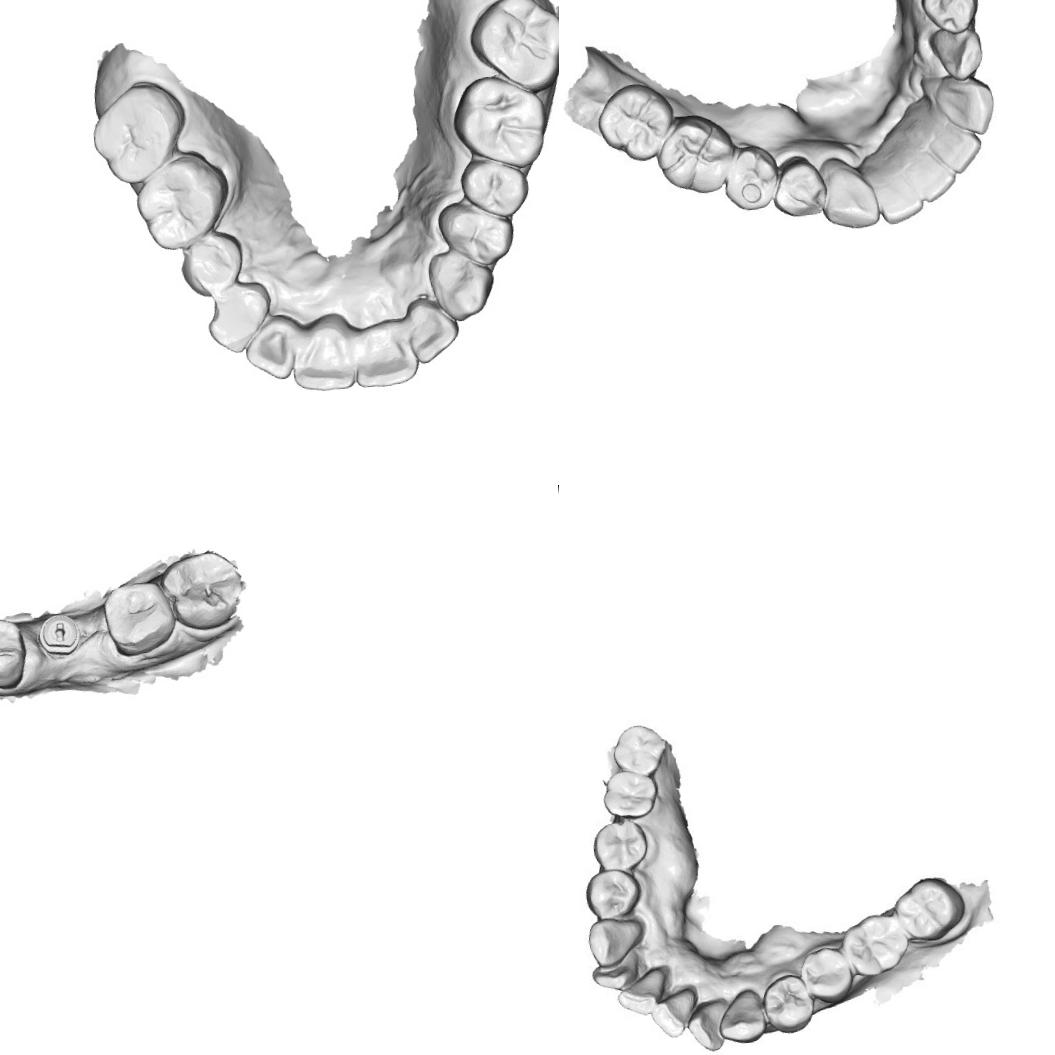canine: (424, 245, 499, 327), (200, 276, 274, 358), (819, 153, 883, 235), (926, 22, 986, 80), (720, 988, 770, 1052), (588, 916, 646, 964)
implant_minus: (36, 612, 84, 658)
incisor: (285, 323, 358, 397), (239, 313, 306, 386), (349, 324, 423, 389), (922, 108, 989, 173), (928, 73, 1000, 132), (863, 152, 922, 224), (407, 305, 462, 370), (898, 133, 952, 198), (621, 968, 676, 1013), (692, 995, 734, 1051), (588, 951, 640, 992), (654, 992, 700, 1032)
molar: (128, 145, 236, 256), (86, 78, 192, 191), (448, 70, 549, 175), (464, 0, 559, 100), (652, 109, 741, 200), (593, 78, 678, 164), (171, 548, 246, 627), (98, 578, 172, 652), (838, 908, 913, 980), (893, 875, 968, 944), (604, 718, 667, 784), (595, 766, 659, 821)
premolar: (434, 194, 517, 269), (170, 220, 244, 300), (453, 153, 532, 224), (771, 151, 825, 219), (800, 942, 855, 1005), (591, 818, 652, 874), (725, 146, 780, 208), (762, 974, 814, 1035), (584, 870, 637, 916), (917, 0, 981, 35), (0, 615, 29, 692)
